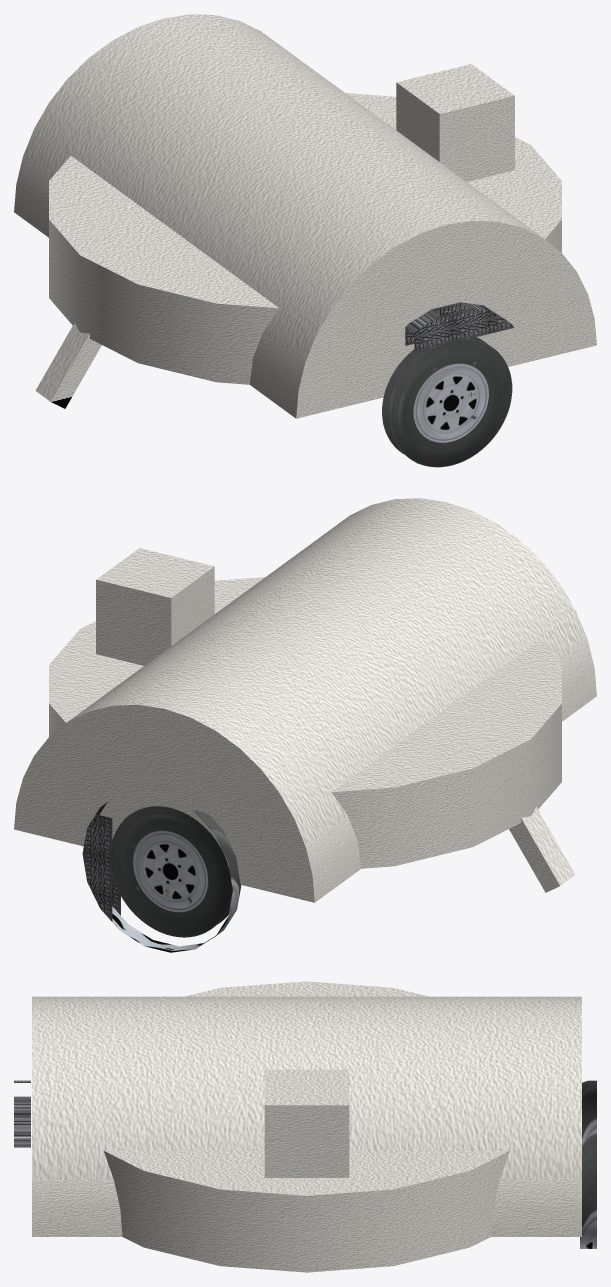
The model's file is ezdun.FBX.
3 renders of one model, top to bottom at view 1: azimuth 30°, elevation 25°; view 2: azimuth 150°, elevation 25°; view 3: azimuth 270°, elevation 25°, orthographic. The views are drawn at different scales.
Visible parts, largest first — view 1: Chassis, WheelR; view 2: Chassis, WheelL; view 3: Chassis, WheelL, WheelR.
Part boxes in pixels (box(x1,y1,x2,y2)): Chassis: box(14, 14, 596, 418); WheelR: box(382, 302, 514, 467); Chassis: box(14, 498, 596, 902); WheelL: box(82, 801, 241, 952); Chassis: box(32, 981, 581, 1272); WheelL: box(580, 1080, 596, 1248); WheelR: box(14, 1080, 30, 1147).
Size of the model in its own units: 25.55 by 11.75 by 27.13.
